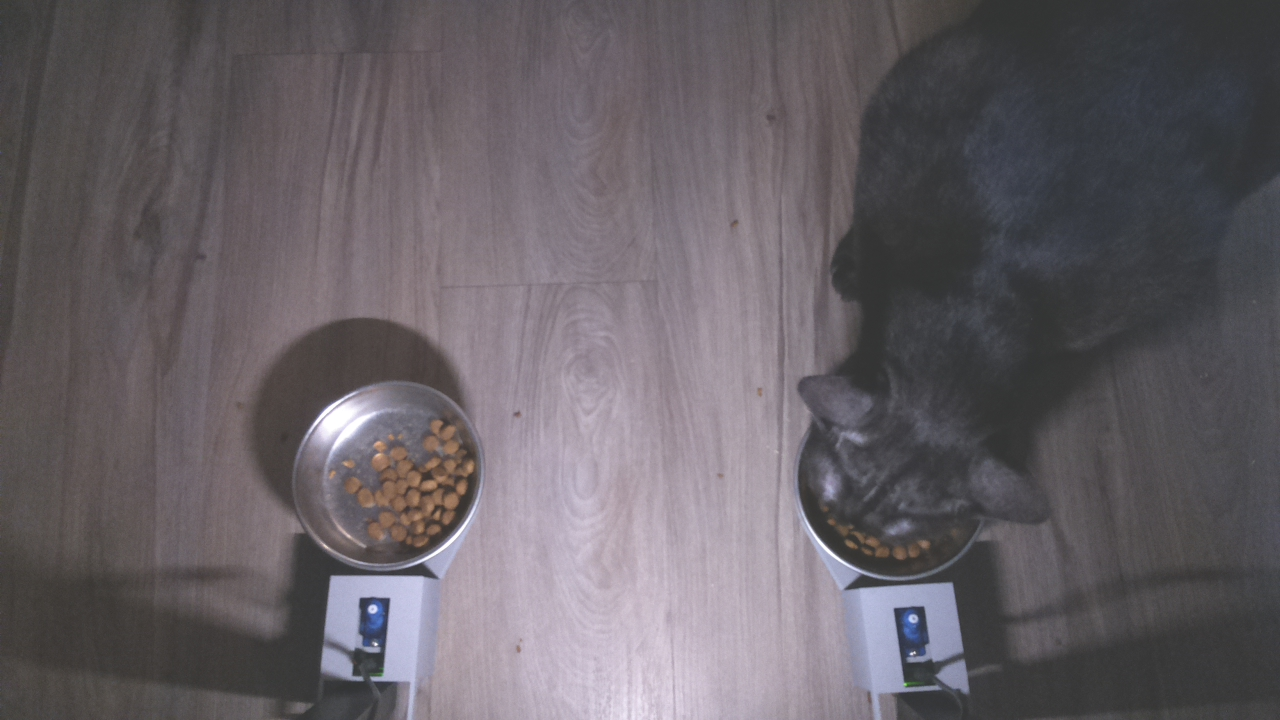open_bowl: (284, 377, 485, 572)
saki_eating: (791, 335, 1056, 590)
